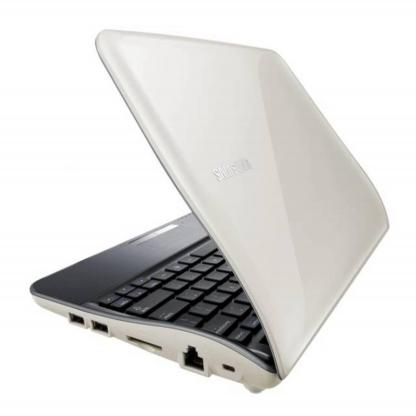board: (29, 29, 388, 394)
